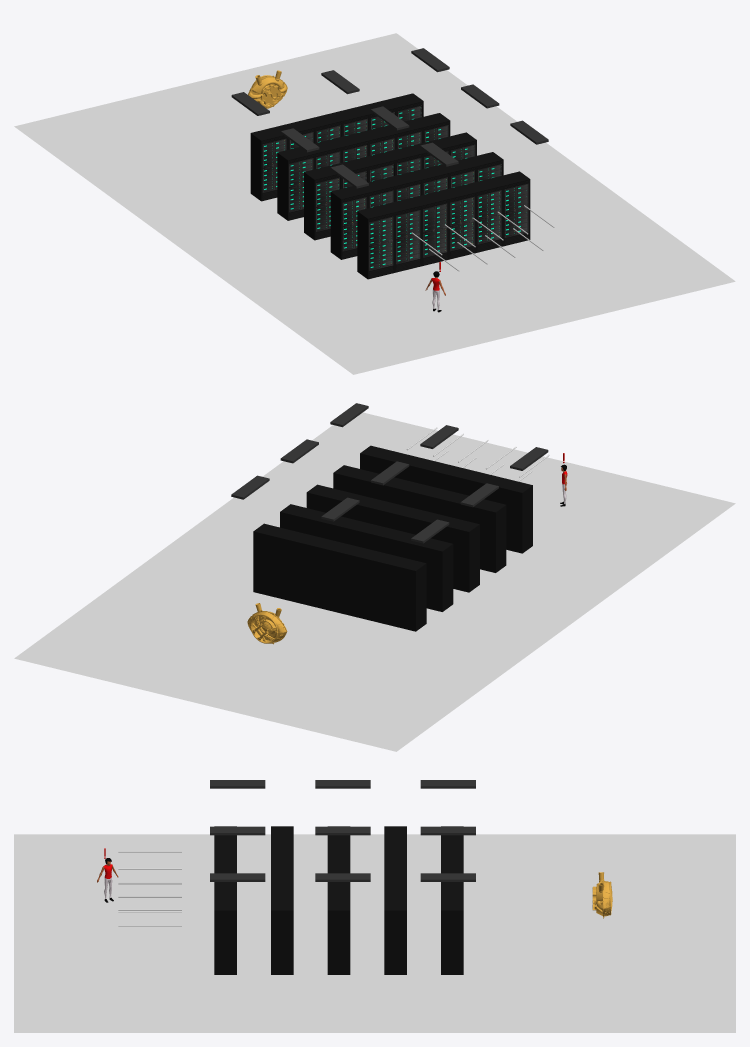
3 views of the same model, one above another, from view 1: azimuth 30°, elevation 25°; view 2: azimuth 150°, elevation 25°; view 3: azimuth 270°, elevation 25° (orthographic). The views are drawn at different scales.
Parts seen in each view (by area): view 1: Plane, Cluster, LampTeto.003, Rear Case; view 2: Plane, Cluster, LampTeto.003; view 3: Plane, Cluster, LampTeto.003.
Boxes of the visible parts, x1,y1,x2,y2 form: Plane: (14,33,735,374); Cluster: (250,93,530,279); LampTeto.003: (231,48,548,188); Rear Case: (248,70,287,108); Plane: (14,412,735,751); Cluster: (253,445,532,631); LampTeto.003: (231,403,548,543); Plane: (14,834,735,1032); Cluster: (214,826,463,974); LampTeto.003: (210,780,475,881).
Size of the model in its own units: 74.58 by 20.84 by 115.
Materials: 14 (1 with a texture image).
